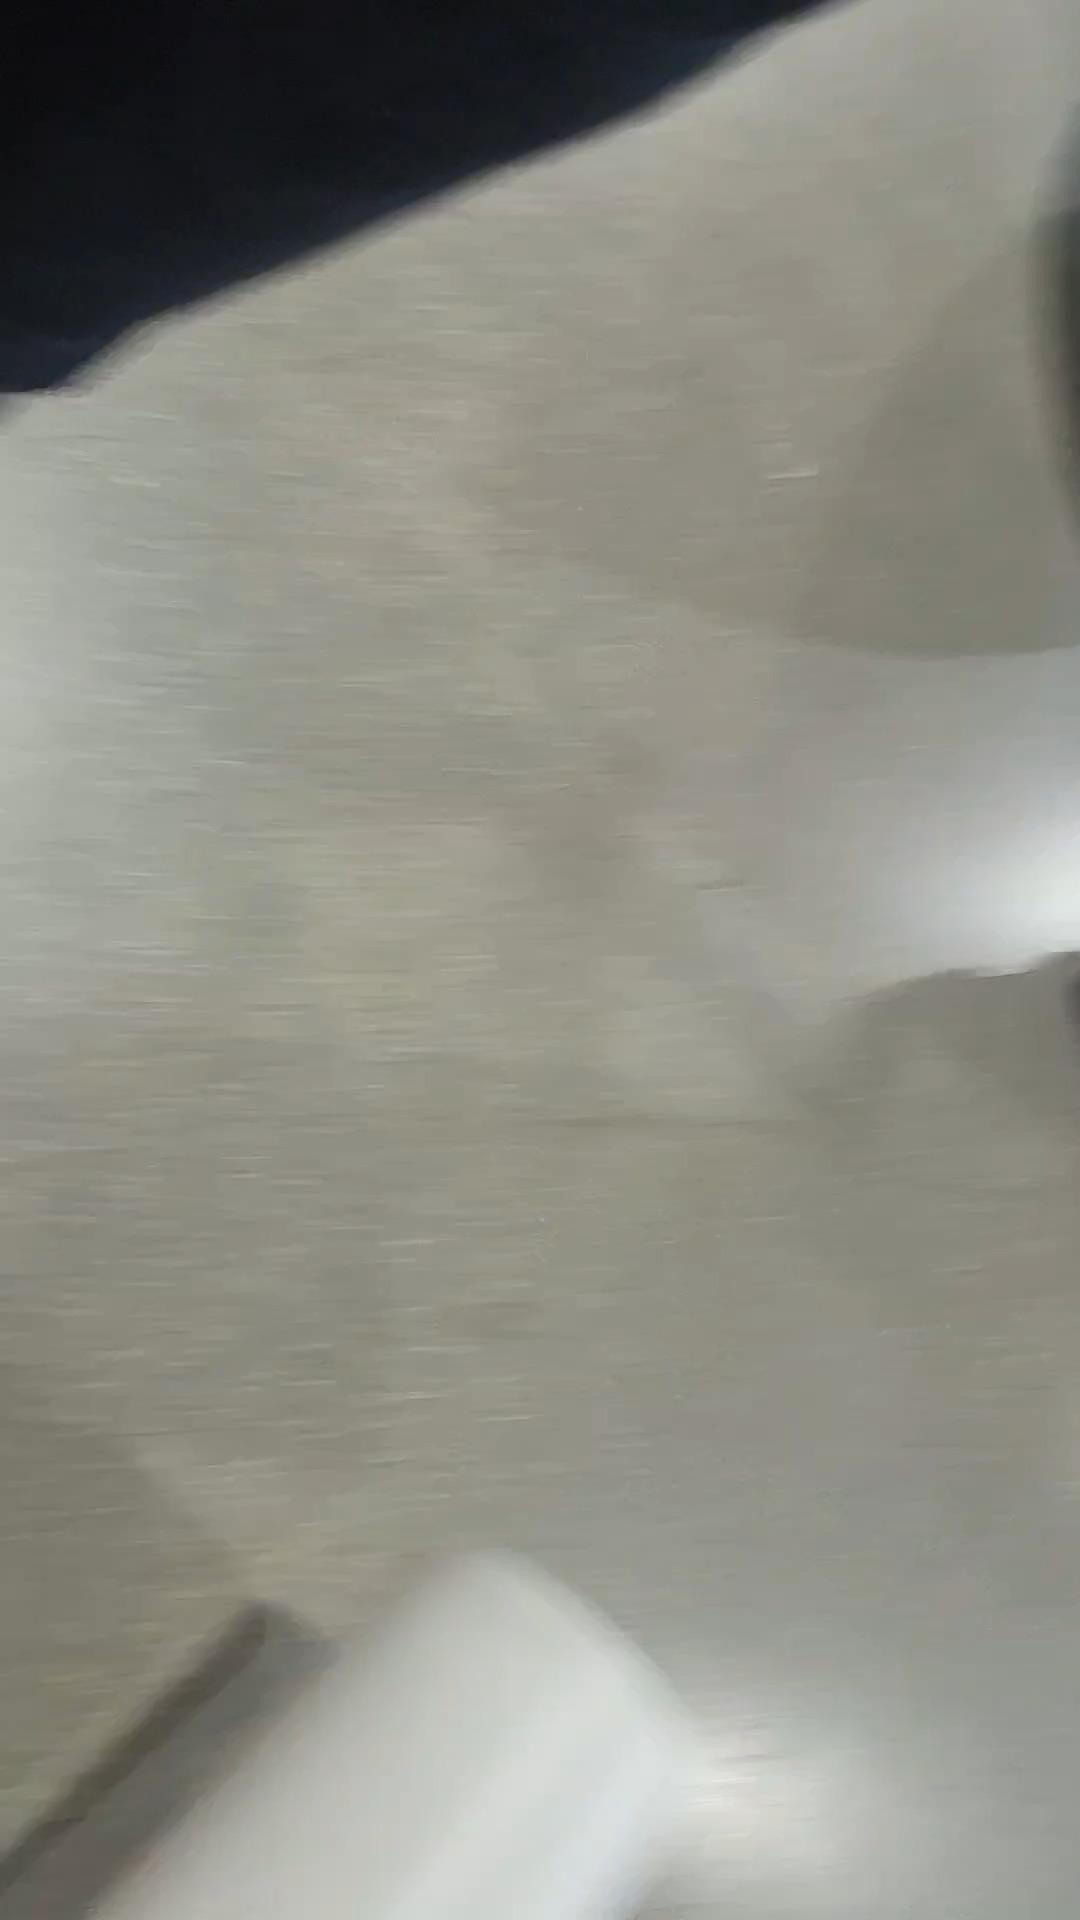coral: (65, 1538, 720, 1920)
